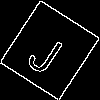J: (24, 25, 71, 77)
